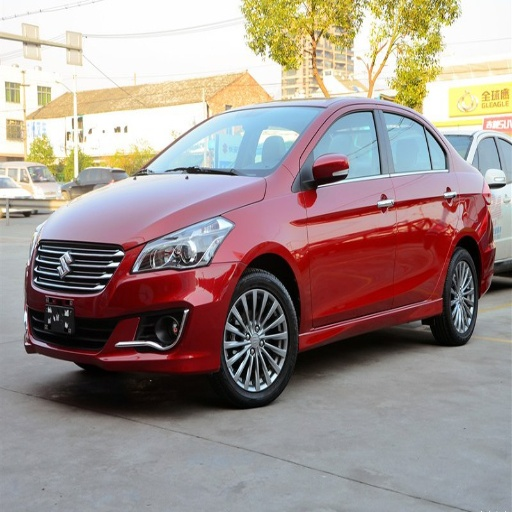front_bumper: (24, 237, 237, 369)
front_glass: (144, 107, 322, 175)
front_left_door: (301, 104, 396, 328)
